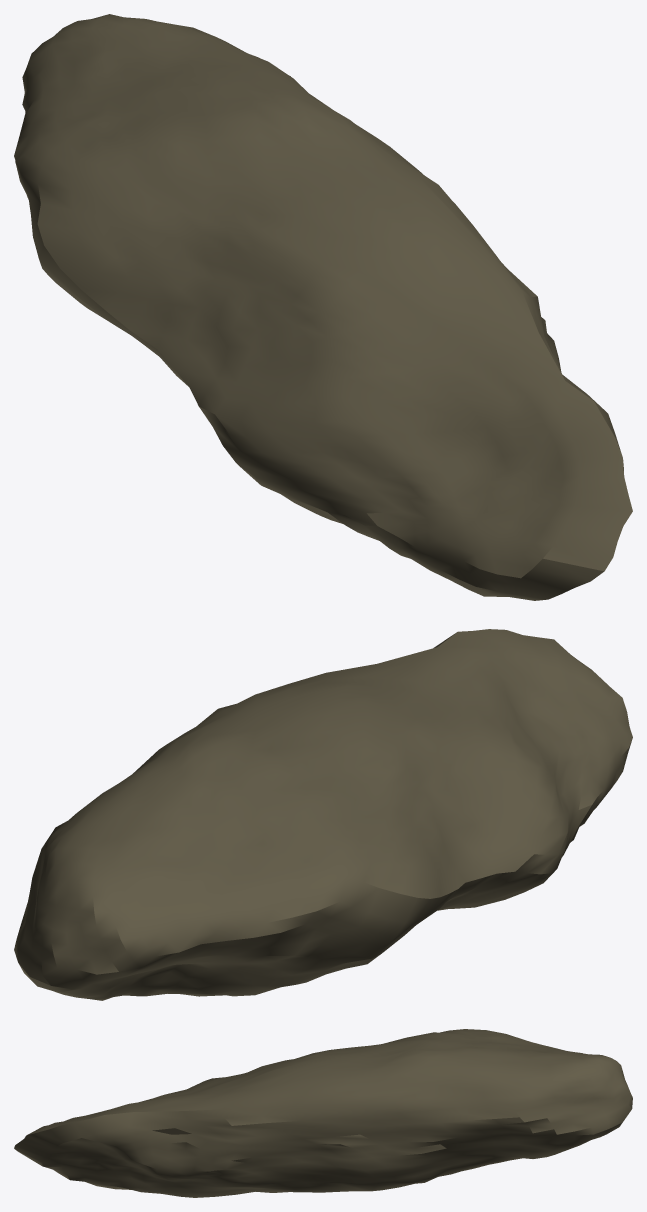
Rendered from rock.fbx.
3 renders of one model, top to bottom at view 1: azimuth 30°, elevation 25°; view 2: azimuth 150°, elevation 25°; view 3: azimuth 270°, elevation 25°, orthographic. The views are drawn at different scales.
Visible parts, largest first — view 1: rock; view 2: rock; view 3: rock.
Part boxes in pixels (x1,y1,x2,y2): rock: [14, 14, 632, 600]; rock: [14, 629, 632, 1000]; rock: [14, 1029, 632, 1197].
Bounding box in the file's own units: 329 × 253 × 958.
